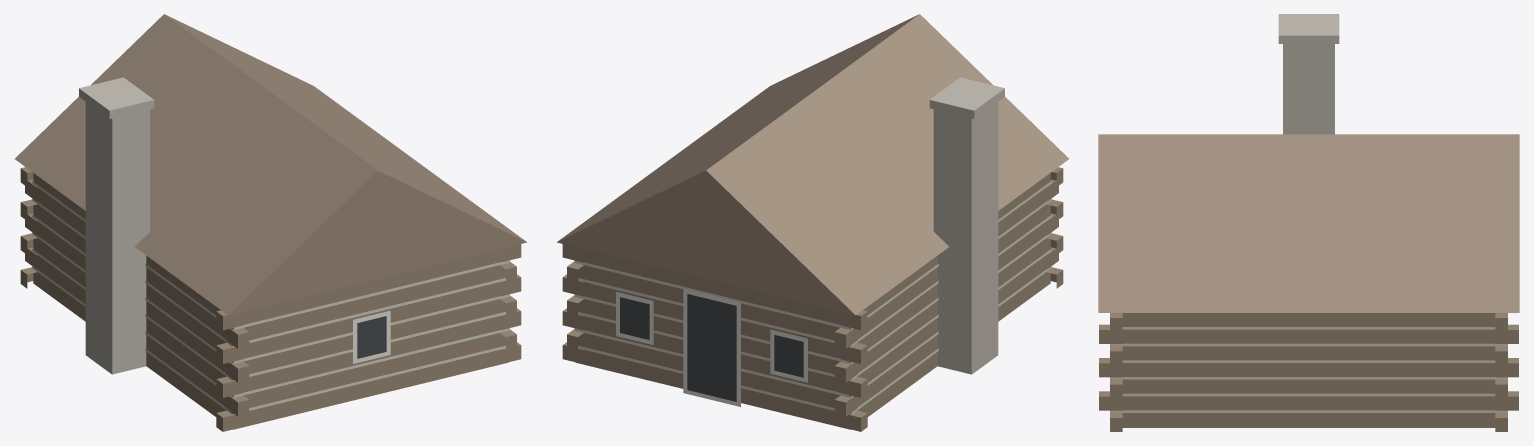
File: recon_1835_blk_south_water_clark_d1_04__inferred_1835.glb
The picture shows the model from 3 angles, left to right: view 1: azimuth 30°, elevation 25°; view 2: azimuth 150°, elevation 25°; view 3: azimuth 270°, elevation 25°; orthographic projection.
Visible parts, largest first — view 1: recon_1835_blk_south_water_clark_d1_04__inferred_1835; view 2: recon_1835_blk_south_water_clark_d1_04__inferred_1835; view 3: recon_1835_blk_south_water_clark_d1_04__inferred_1835.
Part boxes in pixels (x1,y1,x2,y2): recon_1835_blk_south_water_clark_d1_04__inferred_1835: (15, 14, 526, 431); recon_1835_blk_south_water_clark_d1_04__inferred_1835: (557, 14, 1068, 431); recon_1835_blk_south_water_clark_d1_04__inferred_1835: (1098, 14, 1519, 431).
Bounding box in the file's own units: 6.86 × 5.42 × 7.78.
